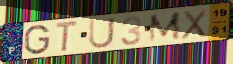3: (120, 15, 143, 46)
G: (23, 24, 51, 56)
M: (147, 10, 182, 44)
T: (54, 19, 80, 54)
U: (88, 16, 117, 50)
X: (179, 8, 208, 41)
